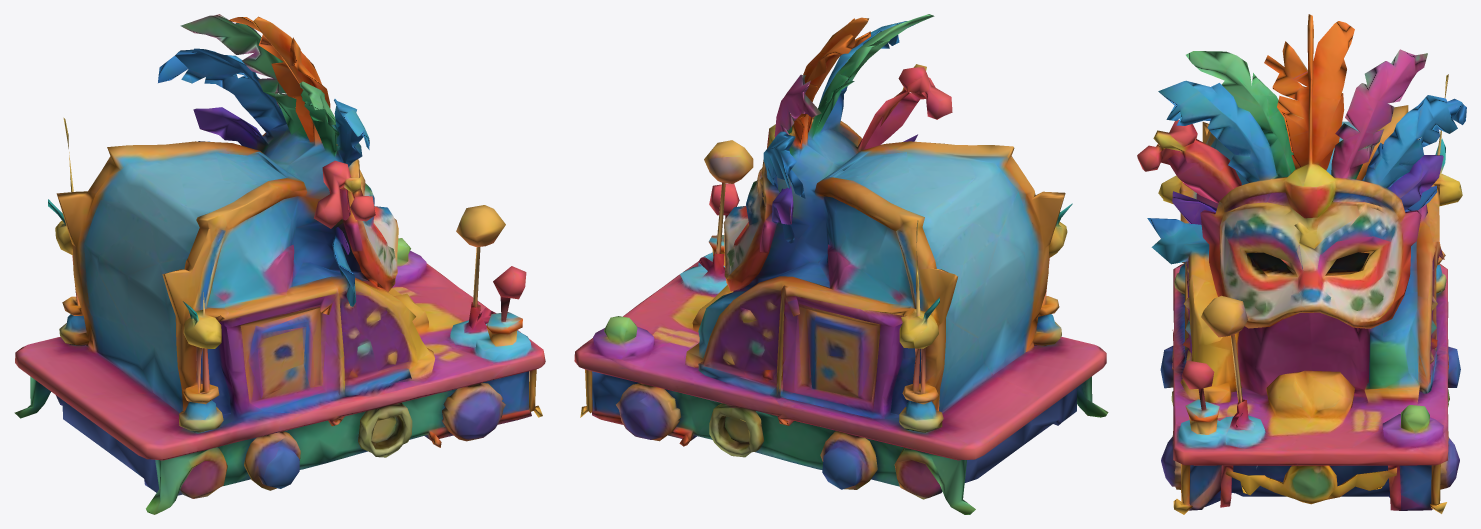
Rendered from alegorico.glb.
3 renders of one model, left to right at view 1: azimuth 30°, elevation 25°; view 2: azimuth 150°, elevation 25°; view 3: azimuth 270°, elevation 25°, orthographic. The views are drawn at different scales.
Parts seen in each view (by area): view 1: tripo_node_06cda06b-4c10-4040-a09f-0d24be04d27e; view 2: tripo_node_06cda06b-4c10-4040-a09f-0d24be04d27e; view 3: tripo_node_06cda06b-4c10-4040-a09f-0d24be04d27e.
Boxes of the visible parts, left/top/right/bottom form: tripo_node_06cda06b-4c10-4040-a09f-0d24be04d27e: left=14, top=14, right=545, bottom=514; tripo_node_06cda06b-4c10-4040-a09f-0d24be04d27e: left=574, top=14, right=1108, bottom=514; tripo_node_06cda06b-4c10-4040-a09f-0d24be04d27e: left=1137, top=14, right=1466, bottom=514.
Size of the model in its own units: 1 by 0.9713 by 0.7241.
1 material, 1 textured.
